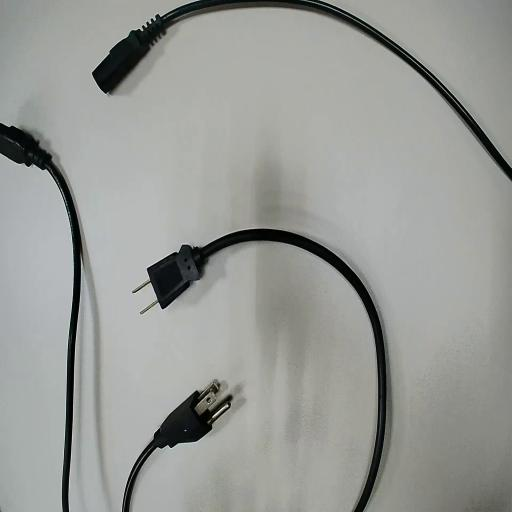wire: (93, 0, 511, 178), (148, 229, 386, 511), (124, 391, 231, 511)
